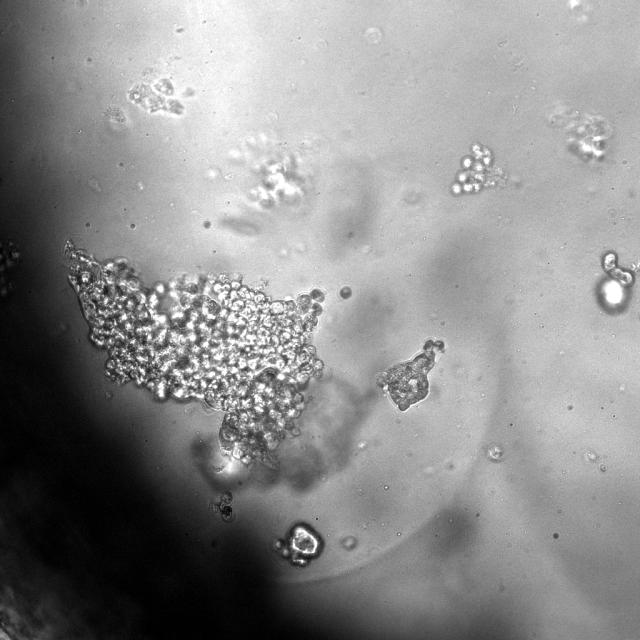organoid: (62, 237, 331, 471), (230, 135, 309, 208), (376, 338, 445, 412), (547, 103, 611, 162), (451, 143, 506, 195), (594, 250, 635, 314), (128, 76, 195, 115), (274, 523, 323, 566), (212, 491, 234, 523)
